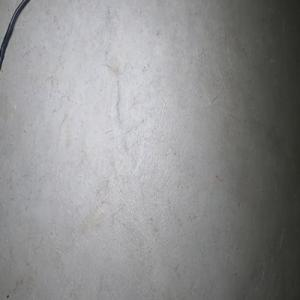Wire: (0, 0, 31, 88)
